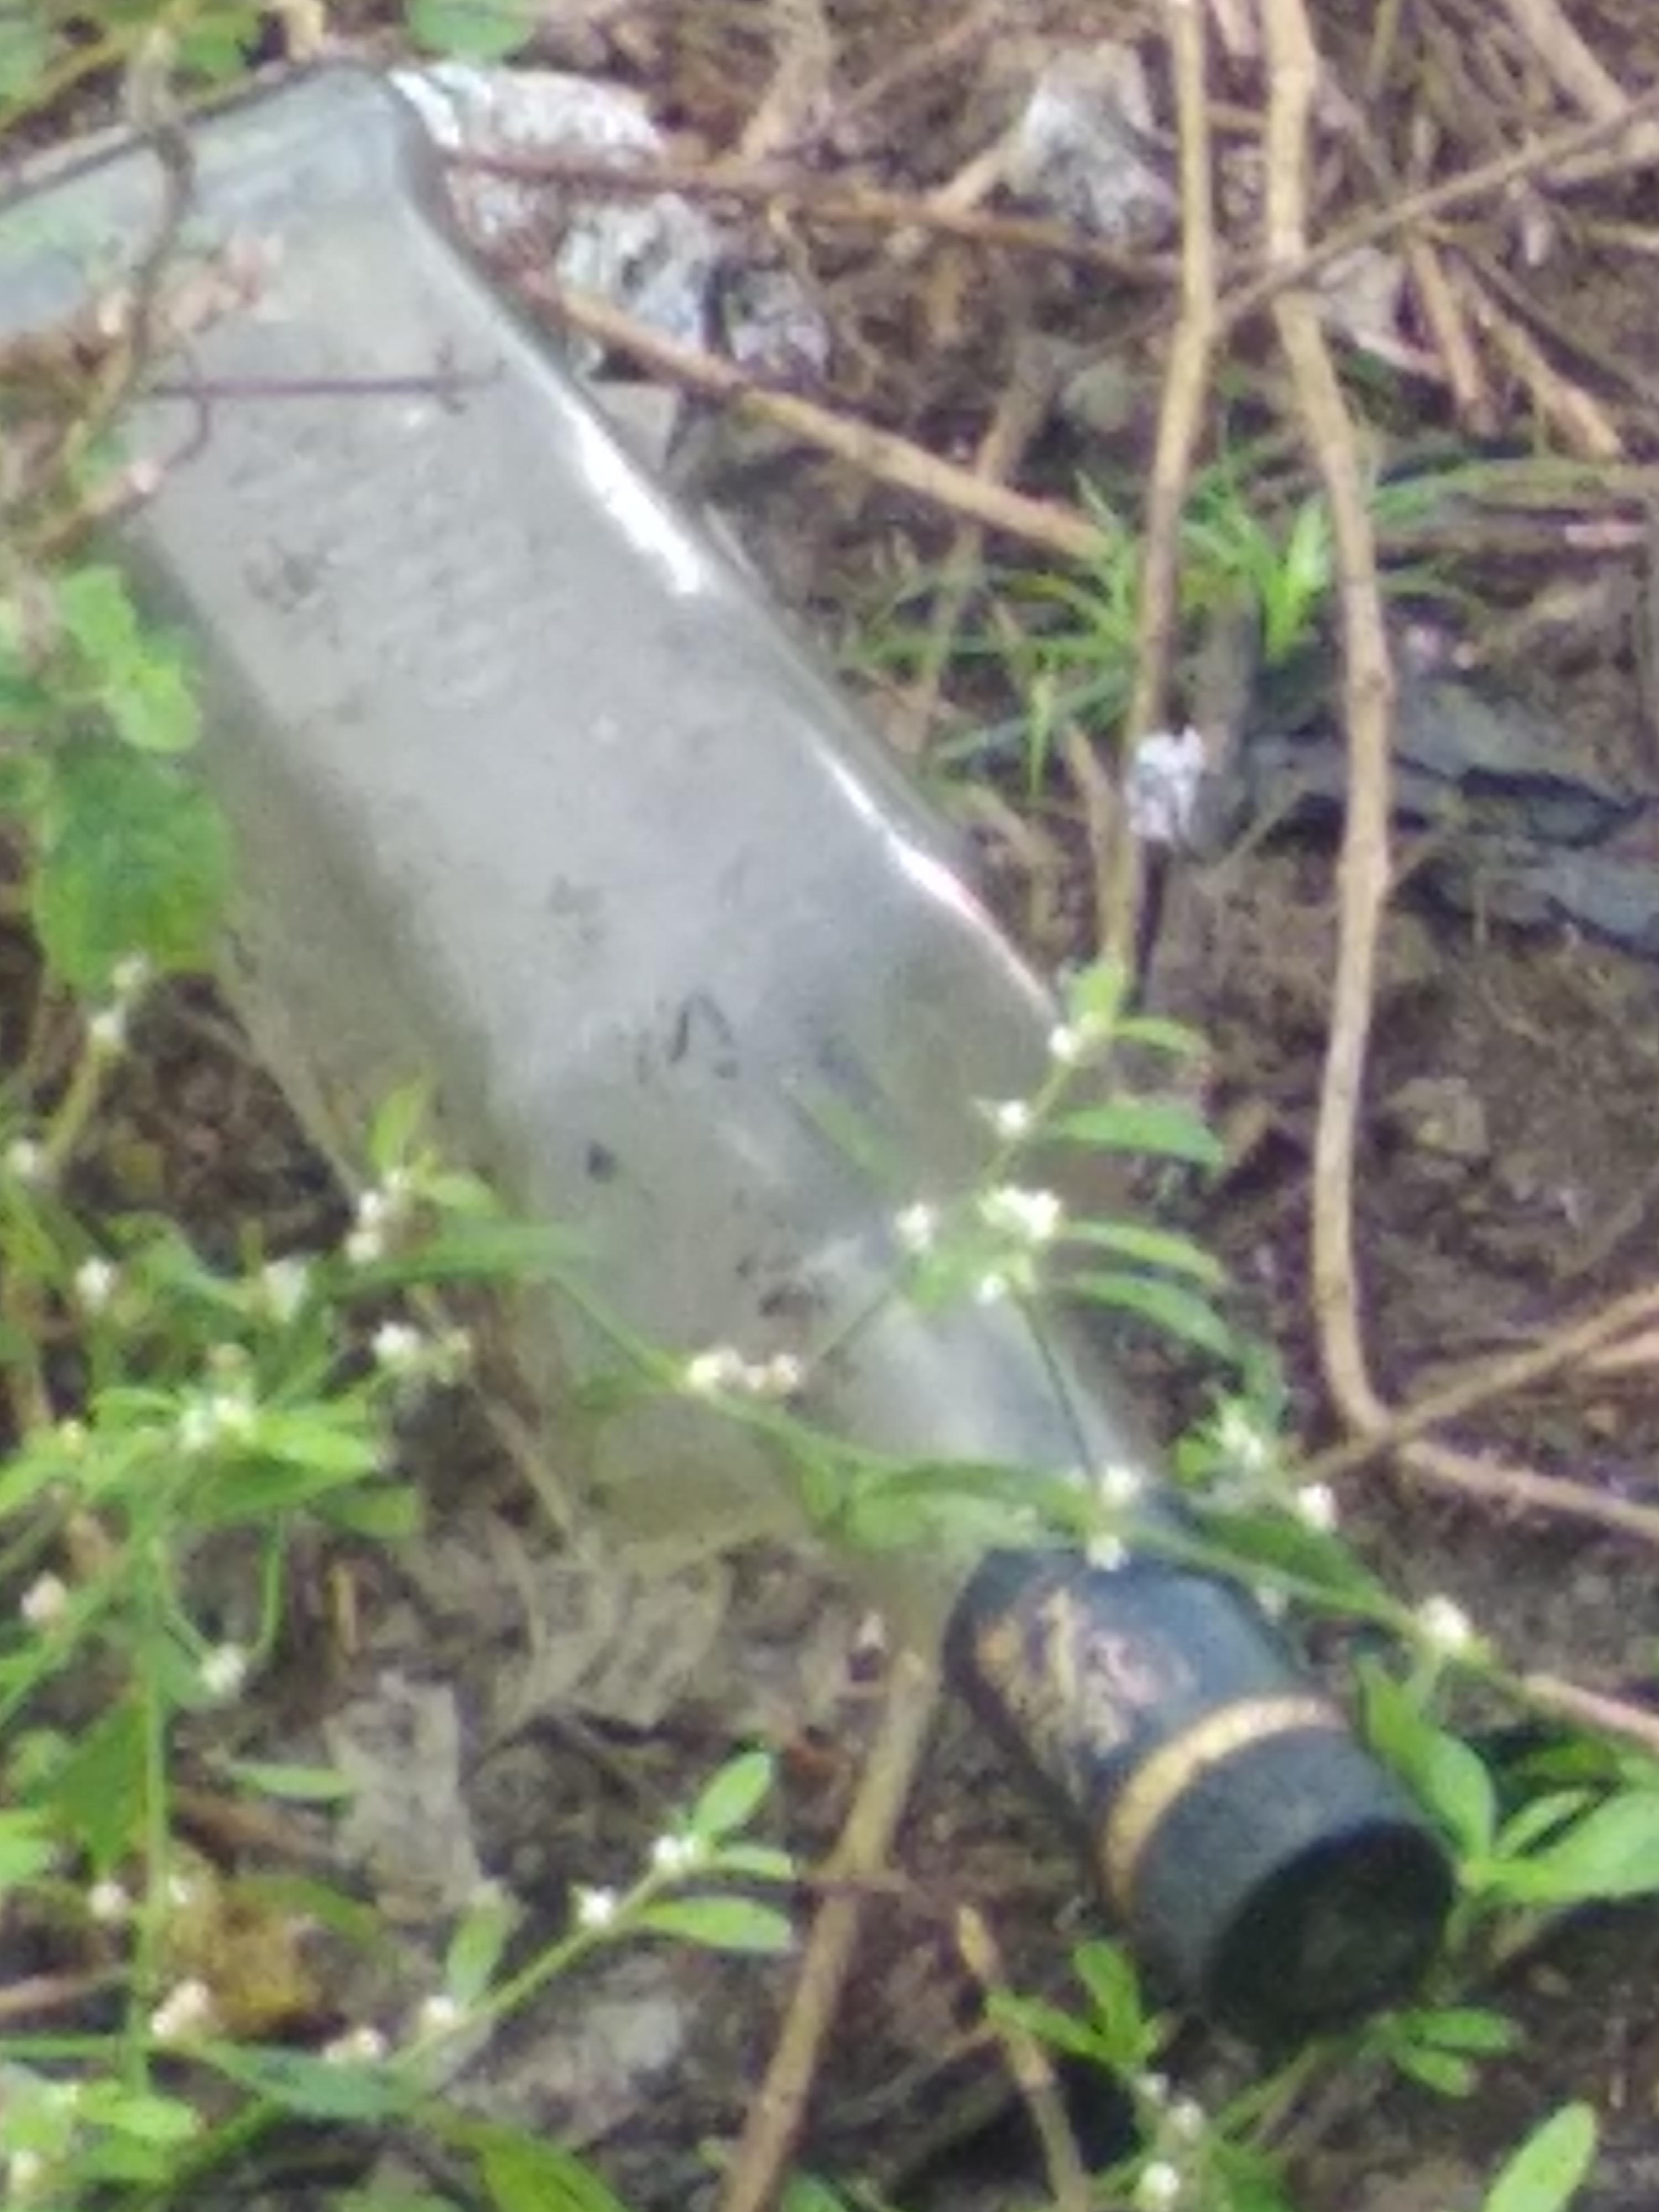trash: (0, 30, 1457, 2078)
